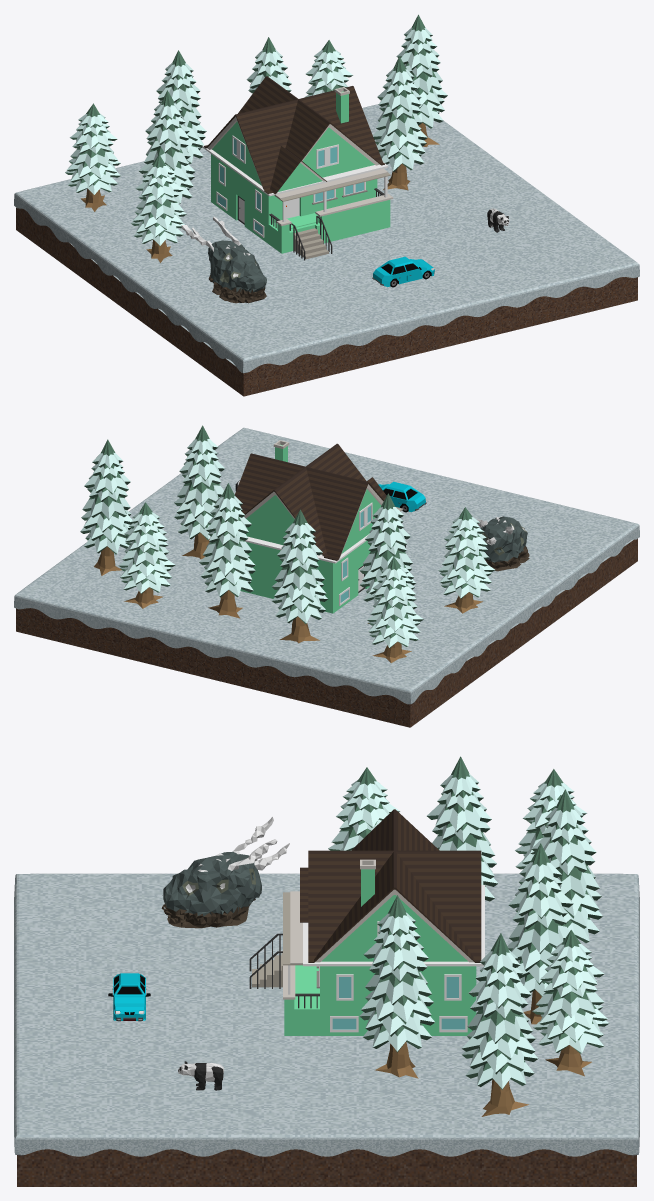
3 renders of one model, top to bottom at view 1: azimuth 30°, elevation 25°; view 2: azimuth 150°, elevation 25°; view 3: azimuth 270°, elevation 25°, orthographic. The views are drawn at different scales.
Visible parts, largest first — view 1: Cube.003, Cube.352, OBJRANDOM_METEORITE, VEHICLES_CAR; view 2: Cube.003, Cube.352, OBJRANDOM_METEORITE, VEHICLES_CAR; view 3: Cube.003, Cube.352, OBJRANDOM_METEORITE, VEHICLES_CAR, ANIMAL_PANDA.
Part boxes in pixels (box(x1,y1,x2,y2)): Cube.003: box(14, 14, 639, 396); Cube.352: box(202, 76, 393, 260); OBJRANDOM_METEORITE: box(181, 216, 266, 303); VEHICLES_CAR: box(372, 256, 434, 287); Cube.003: box(14, 425, 639, 727); Cube.352: box(235, 440, 405, 613); OBJRANDOM_METEORITE: box(477, 516, 529, 571); VEHICLES_CAR: box(378, 481, 426, 512); Cube.003: box(14, 756, 639, 1186); Cube.352: box(249, 809, 484, 1035); OBJRANDOM_METEORITE: box(161, 817, 289, 928); VEHICLES_CAR: box(108, 973, 150, 1021); ANIMAL_PANDA: box(178, 1061, 223, 1090).
Size of the model in its own units: 4040 by 1700 by 4040.
32 materials, 3 textured.
